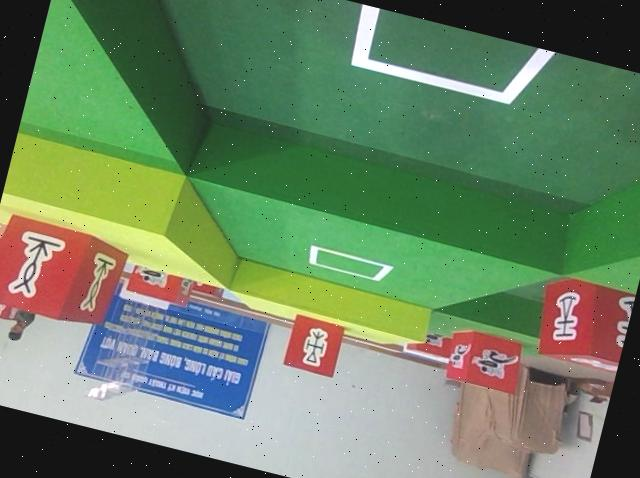R1: (440, 324, 526, 395)
R2 Real: (0, 210, 128, 331), (529, 269, 637, 374), (283, 311, 346, 378)
